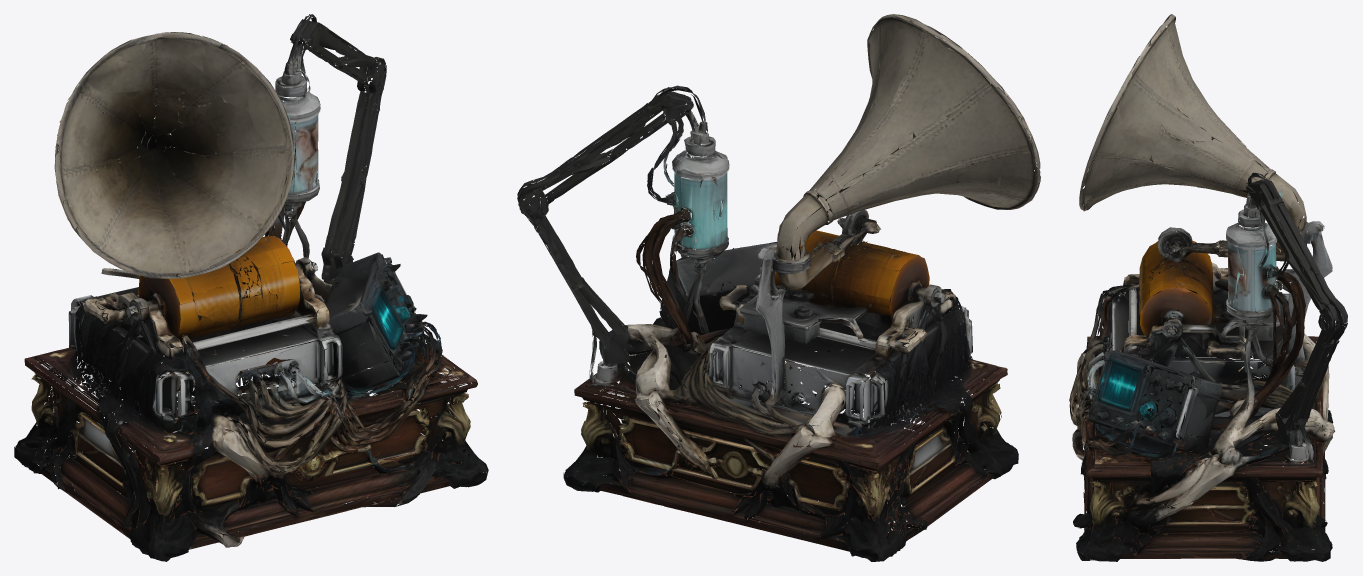
Rendered from vass_translation_phonograph.glb.
3 views of the same model, side by side, from view 1: azimuth 30°, elevation 25°; view 2: azimuth 150°, elevation 25°; view 3: azimuth 270°, elevation 25° (orthographic). The views are drawn at different scales.
Visible parts, largest first — view 1: node_0; view 2: node_0; view 3: node_0.
Boxes of the visible parts, x1,y1,x2,y2 form: node_0: (14,14,488,561); node_0: (517,14,1040,561); node_0: (1069,14,1347,561).
Bounding box in the file's own units: 0.8433 × 0.8994 × 0.5363.
1 material, 1 textured.
